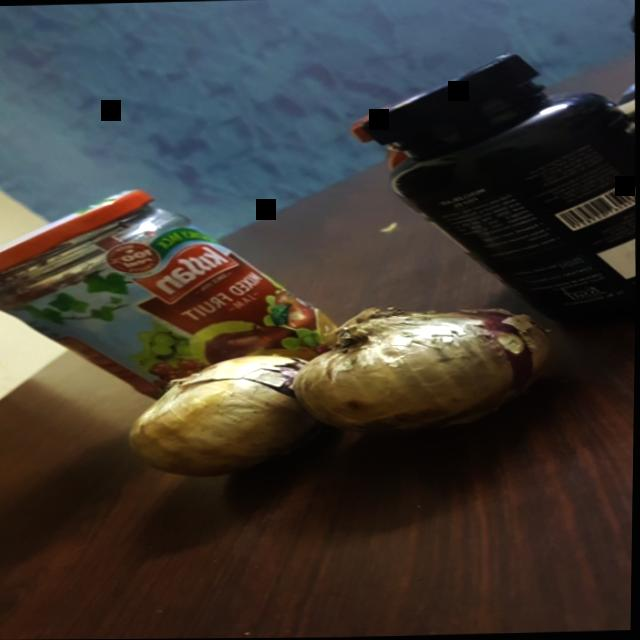onion: (293, 269, 566, 465), (121, 343, 317, 503)
